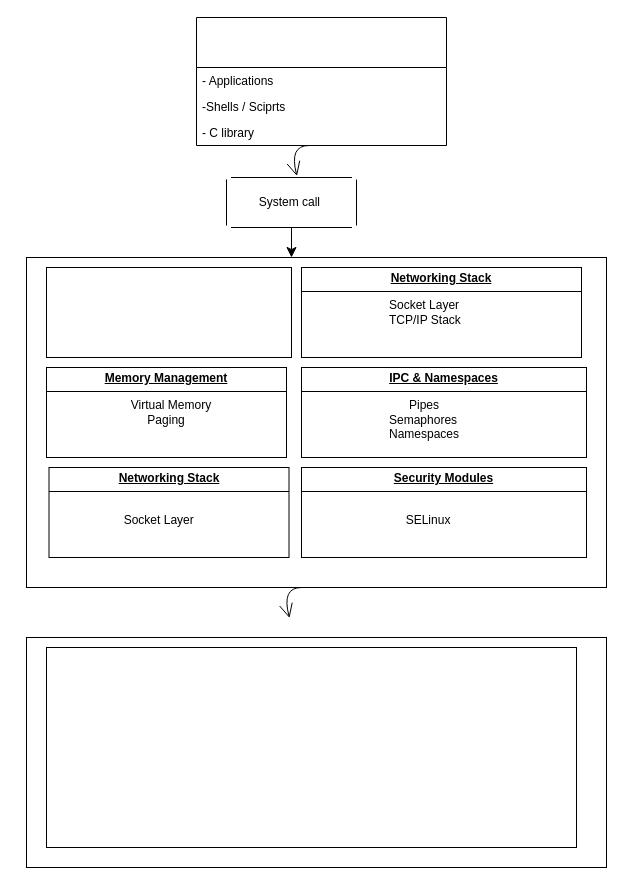
This 624x885 diagram has some shape labels left out. Here are the shapes that lost their labels. From the top down, the box of each, then its label:
(196, 16, 446, 146): User Space
(46, 266, 292, 358): Process Manegement Scheduler Signals Context Switching
(46, 646, 576, 848): Hardware Layer CPU/RAM I/O Devices Network/Disk
